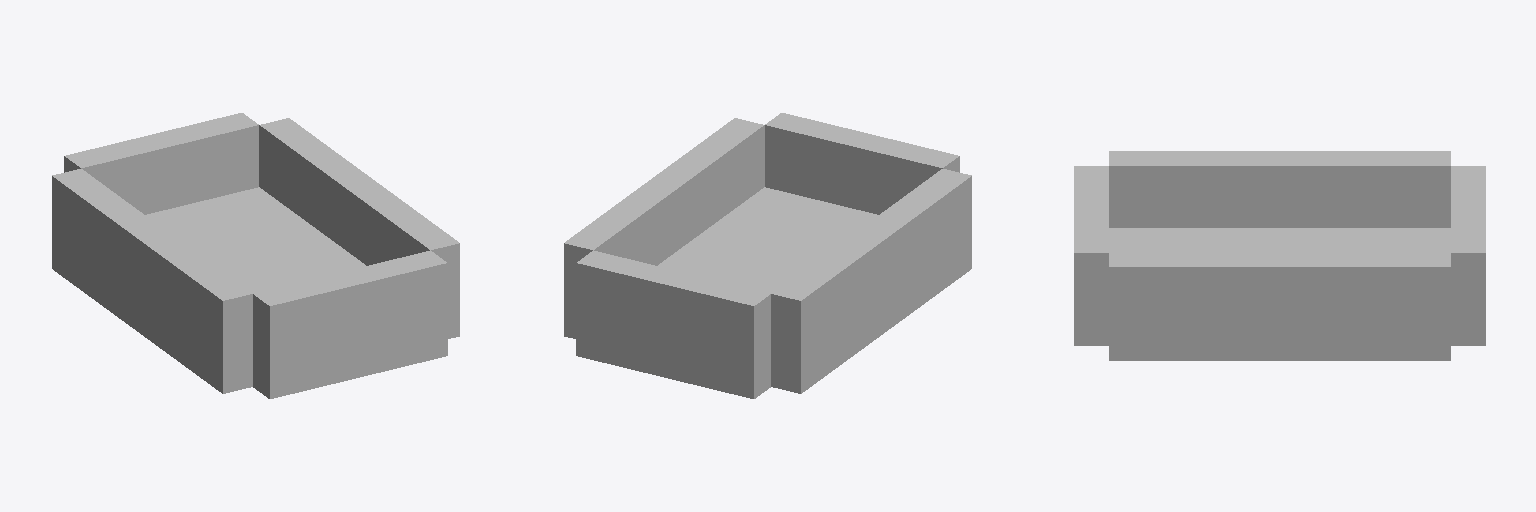
File: hardcook_baking_sheet.obj
3 views of the same model, side by side, from view 1: azimuth 30°, elevation 25°; view 2: azimuth 150°, elevation 25°; view 3: azimuth 270°, elevation 25° (orthographic).
Visible parts, largest first — view 1: node_0_0_0.001; view 2: node_0_0_0.001; view 3: node_0_0_0.001.
Boxes of the visible parts, x1=… form: node_0_0_0.001: x1=52, y1=113, x2=459, y2=398; node_0_0_0.001: x1=564, y1=113, x2=971, y2=398; node_0_0_0.001: x1=1074, y1=151, x2=1485, y2=360.
Bounding box in the file's own units: 0.5 × 0.1875 × 0.75.